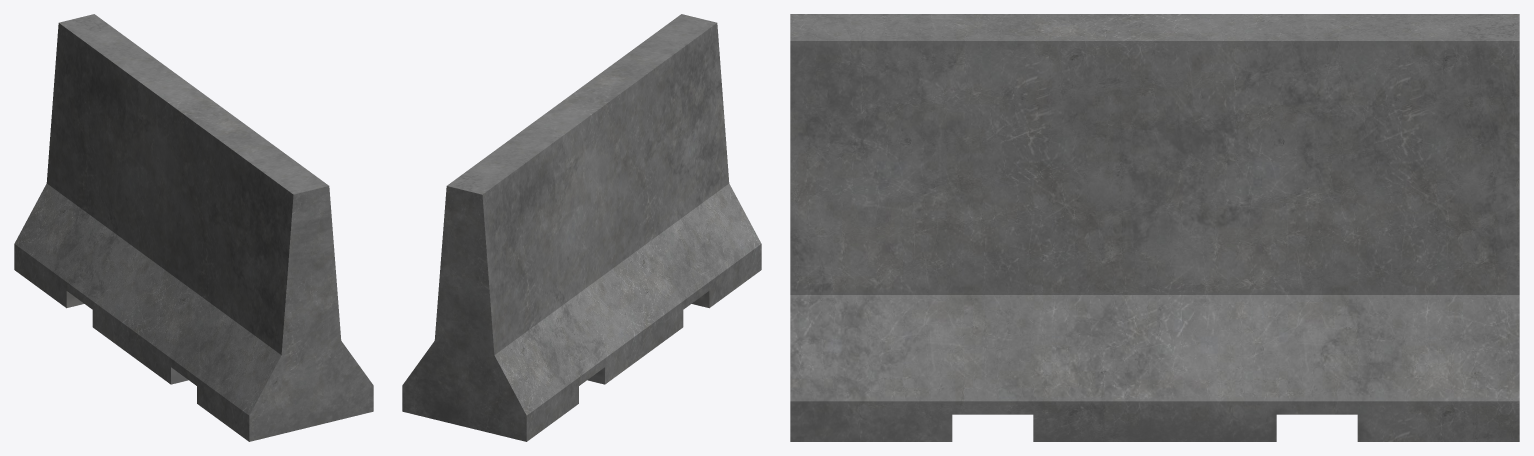
Rendered from RoadBlock.fbx.
3 renders of one model, left to right at view 1: azimuth 30°, elevation 25°; view 2: azimuth 150°, elevation 25°; view 3: azimuth 270°, elevation 25°, orthographic. The views are drawn at different scales.
Parts seen in each view (by area): view 1: RoadBlock; view 2: RoadBlock; view 3: RoadBlock.
Boxes of the visible parts, bbox=[...] form: RoadBlock: bbox=[14, 14, 373, 441]; RoadBlock: bbox=[402, 14, 761, 441]; RoadBlock: bbox=[790, 14, 1519, 441].
Size of the model in its own units: 37.96 by 69.02 by 124.
